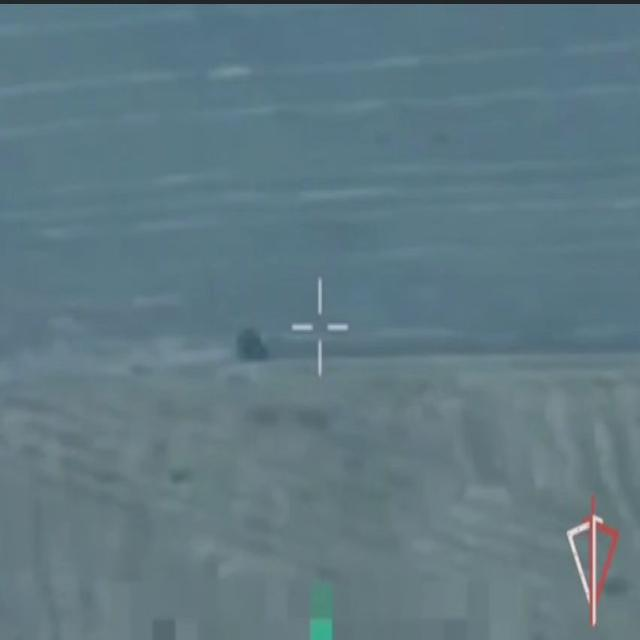vehicle: (218, 317, 277, 378)
